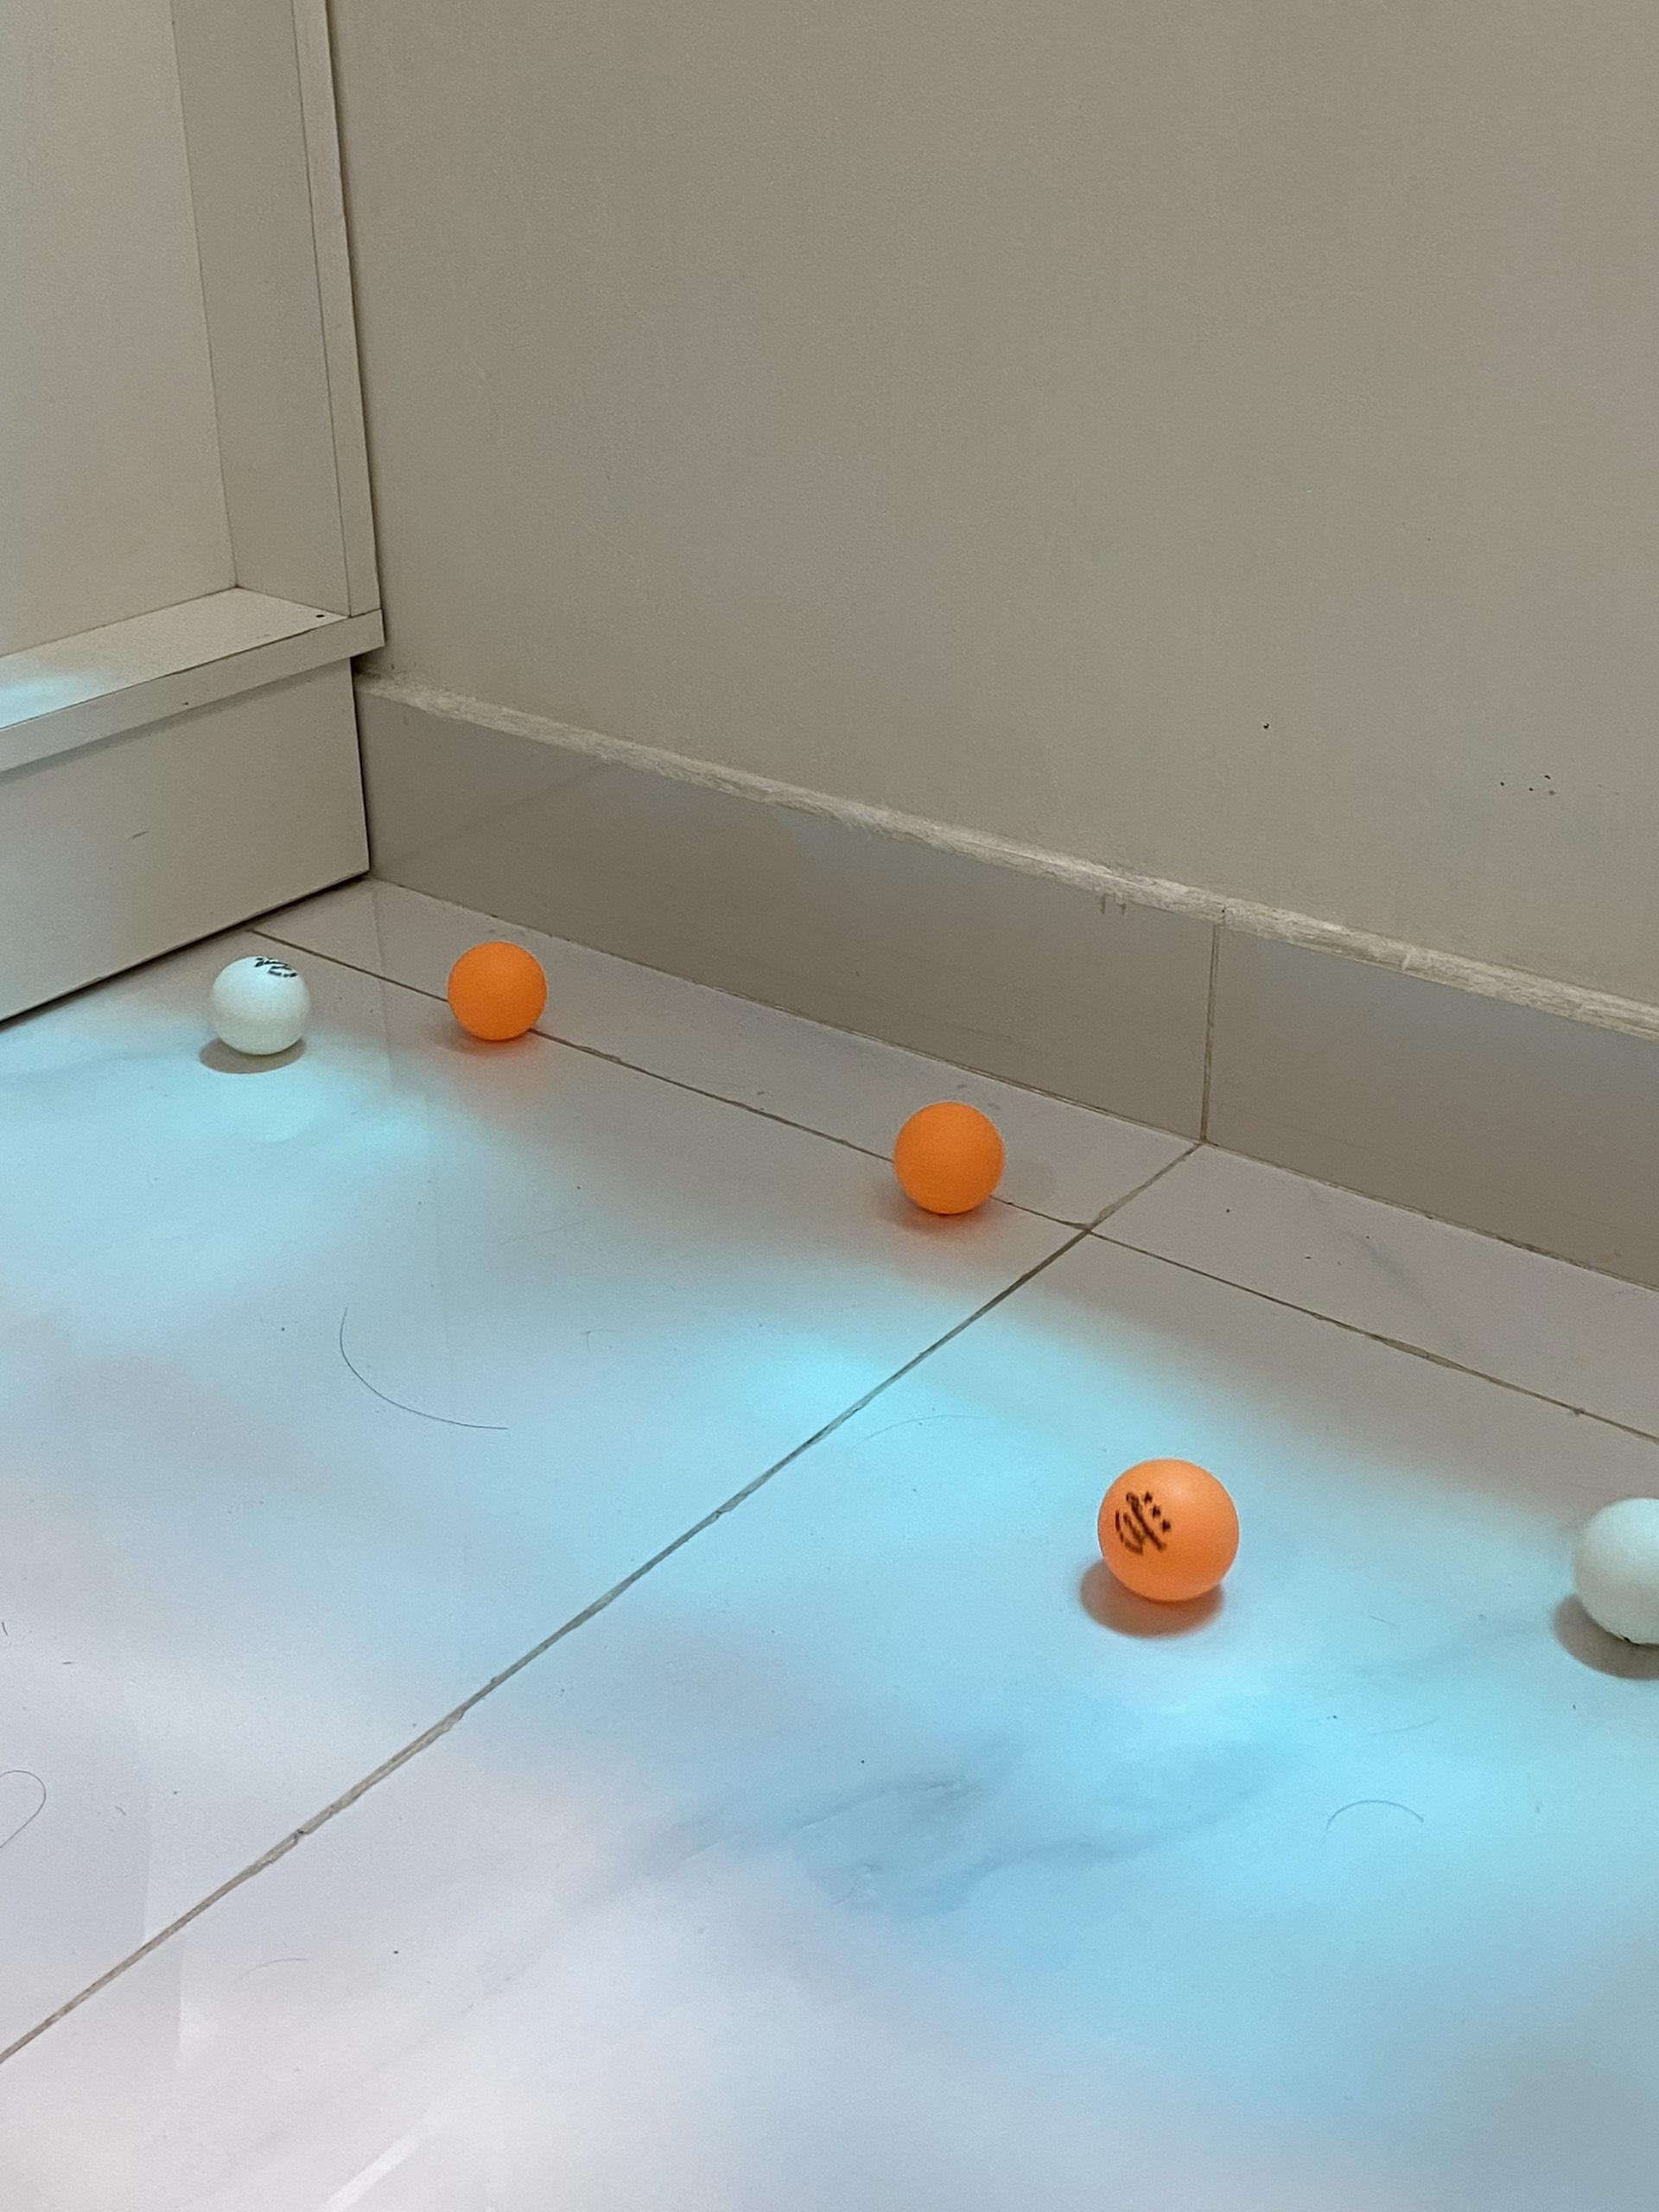oball: (1098, 1460, 1241, 1604), (896, 1101, 1007, 1217), (450, 939, 552, 1045)
